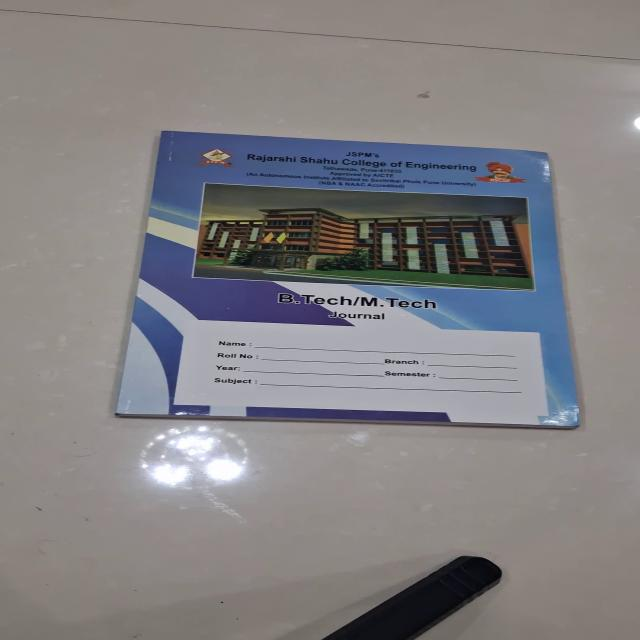paper: (114, 130, 582, 428)
